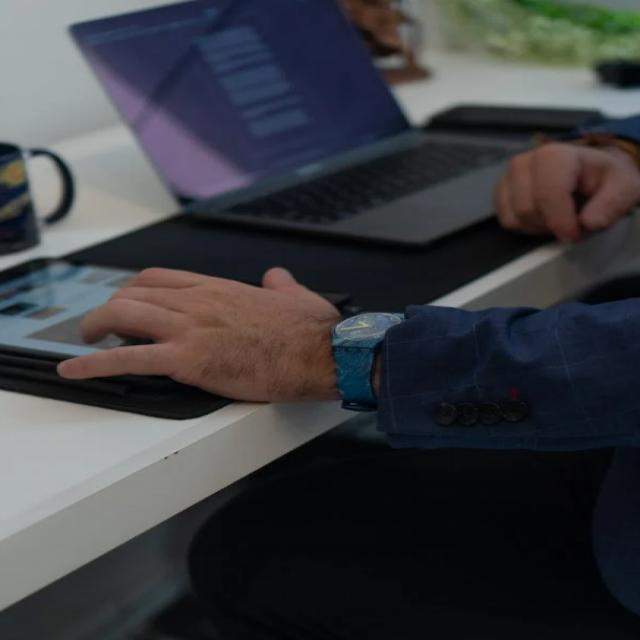Watch: (327, 306, 410, 412)
